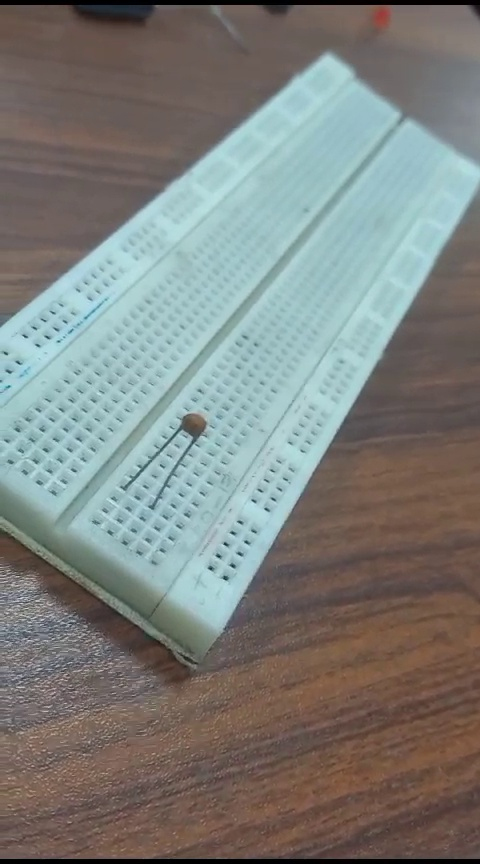ceramic capacitor: (115, 405, 210, 504)
